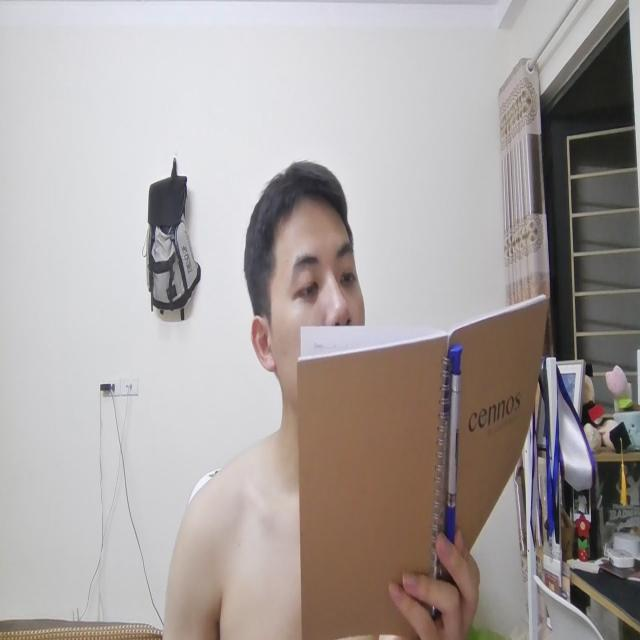book: (296, 282, 552, 638)
student: (237, 165, 369, 422)
